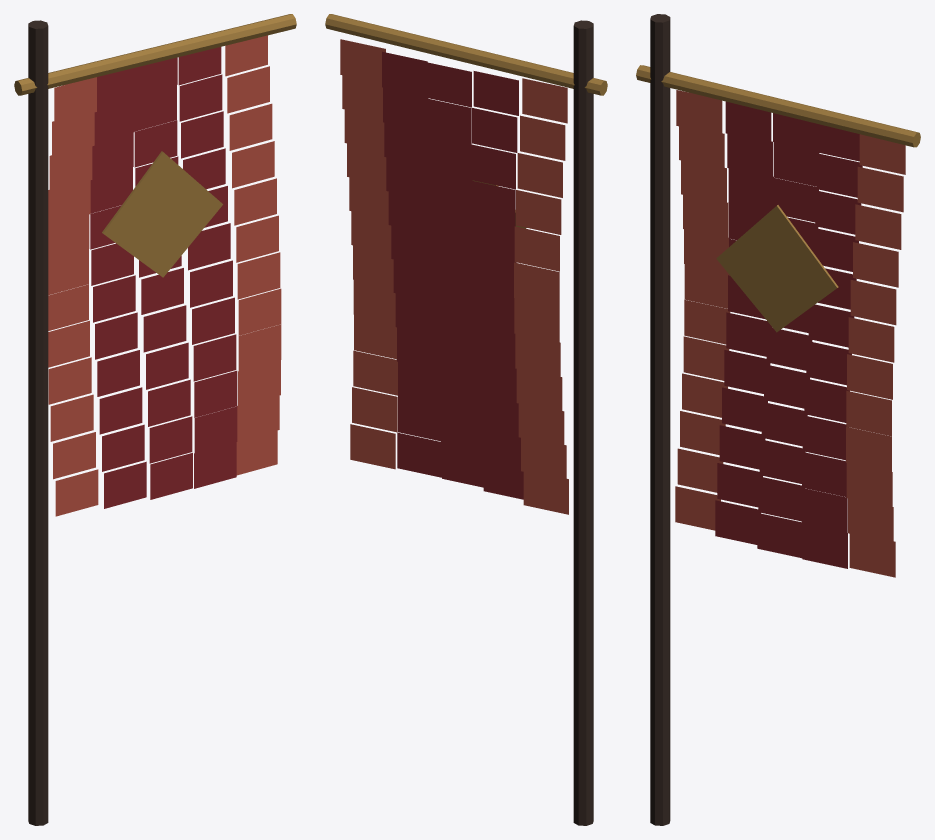
File: banner.glb
3 views of the same model, side by side, from view 1: azimuth 30°, elevation 25°; view 2: azimuth 150°, elevation 25°; view 3: azimuth 330°, elevation 25° (orthographic).
Visible parts, largest first — view 1: banner; view 2: banner; view 3: banner.
Part boxes in pixels (x1,y1,x2,y2): banner: (14,14,296,825); banner: (325,14,607,825); banner: (636,14,920,825).
Bounding box in the file's own units: 1.37 × 3.8 × 0.1516.
